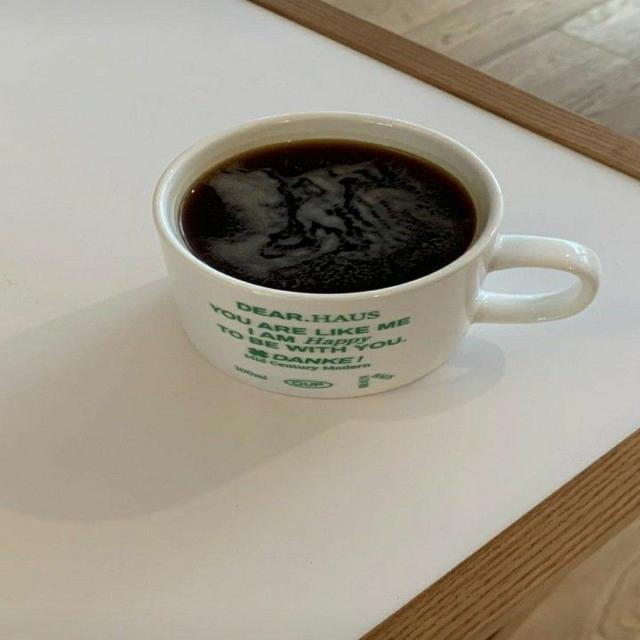glass cup: (152, 111, 601, 400)
